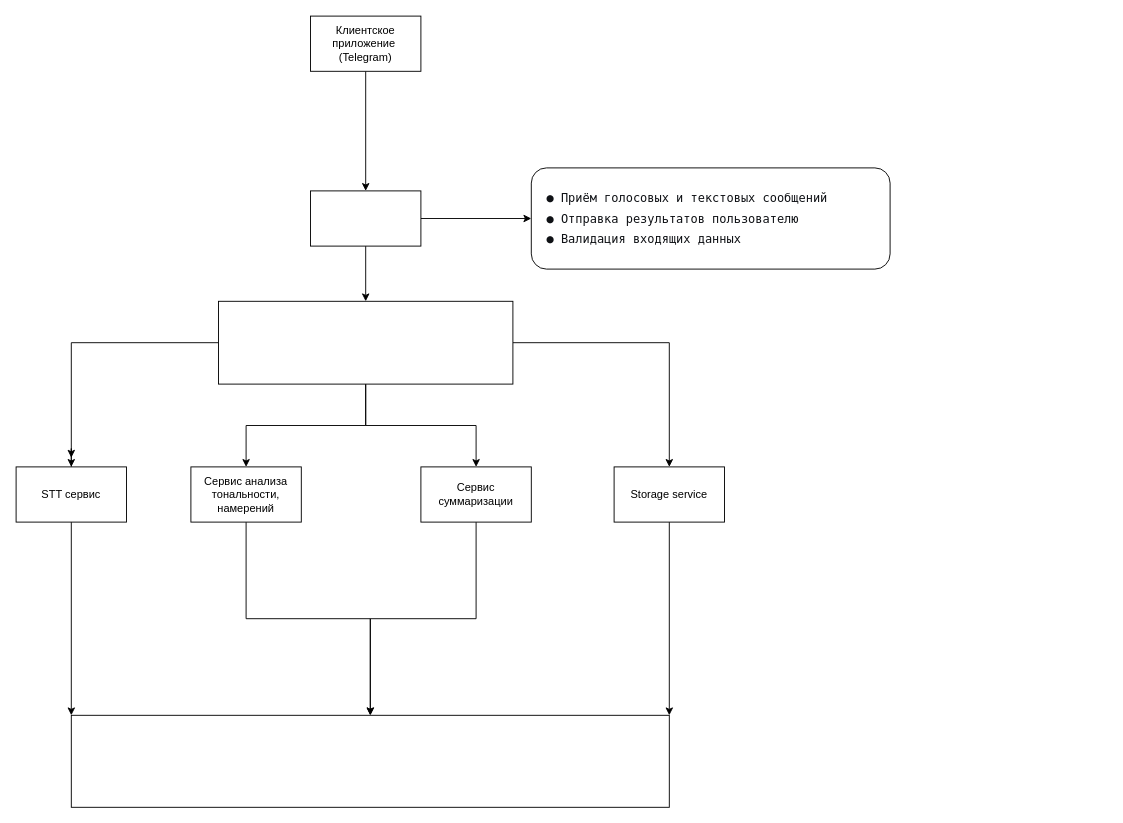
Some shapes in this 1123 by 823 pixel diagram are drawn without their labels. Here are the shapes that lost their labels. From the top down, the box of each, then its label:
(310, 190, 421, 246): Telegram Bot Interface
(218, 300, 513, 384): Оркестратор
(70, 714, 669, 807): База данных
